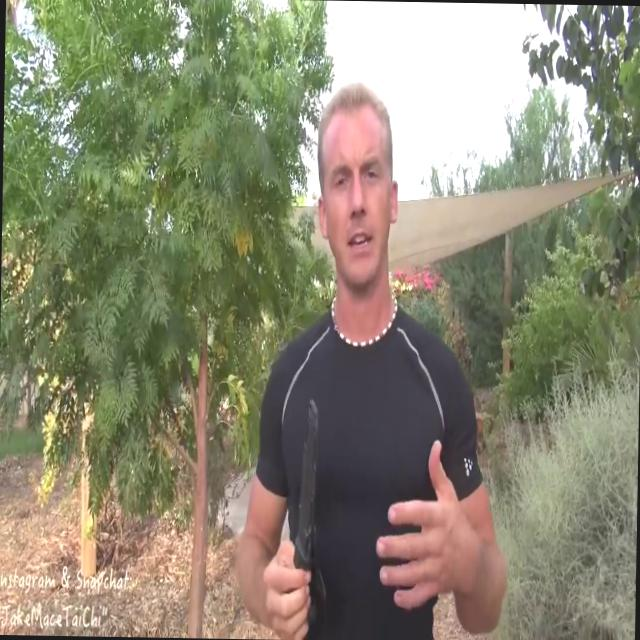knife: (271, 382, 329, 608)
